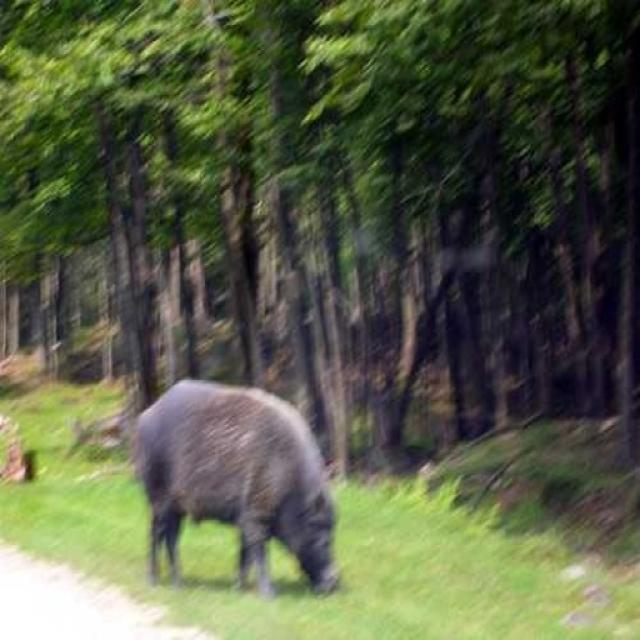pig: (124, 378, 349, 600)
